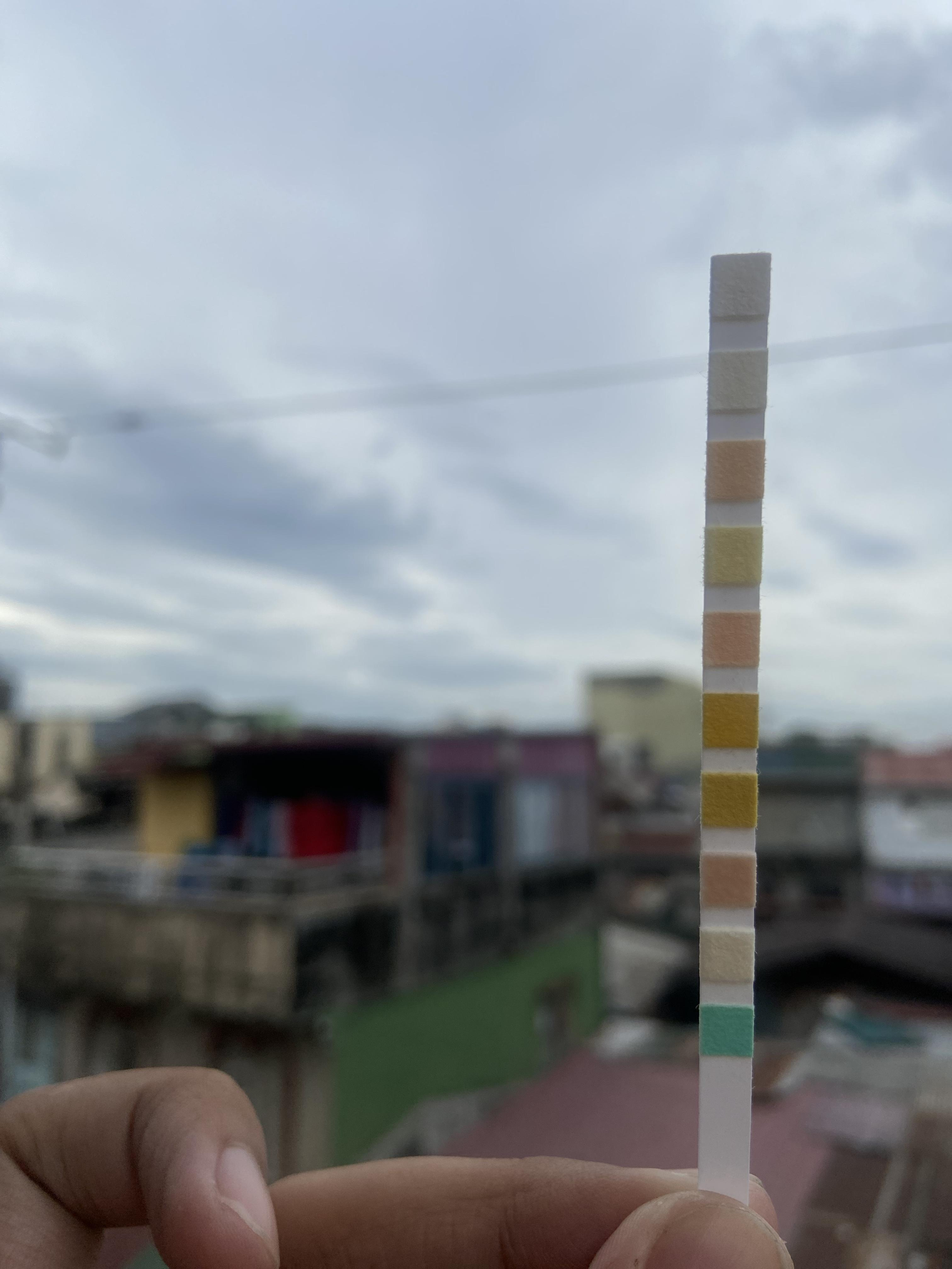Bilirubin: (702, 932, 752, 981)
Blood: (705, 696, 756, 747)
Glucose: (700, 1007, 754, 1056)
Ketone: (703, 857, 754, 907)
Leukocytes: (715, 260, 768, 314)
Nitrite: (713, 355, 765, 407)
Protein: (707, 528, 760, 581)
SpGravity: (703, 774, 754, 826)
Urobilinogen: (710, 444, 762, 496)
pH: (706, 614, 759, 664)
strip: (698, 254, 770, 1207)
